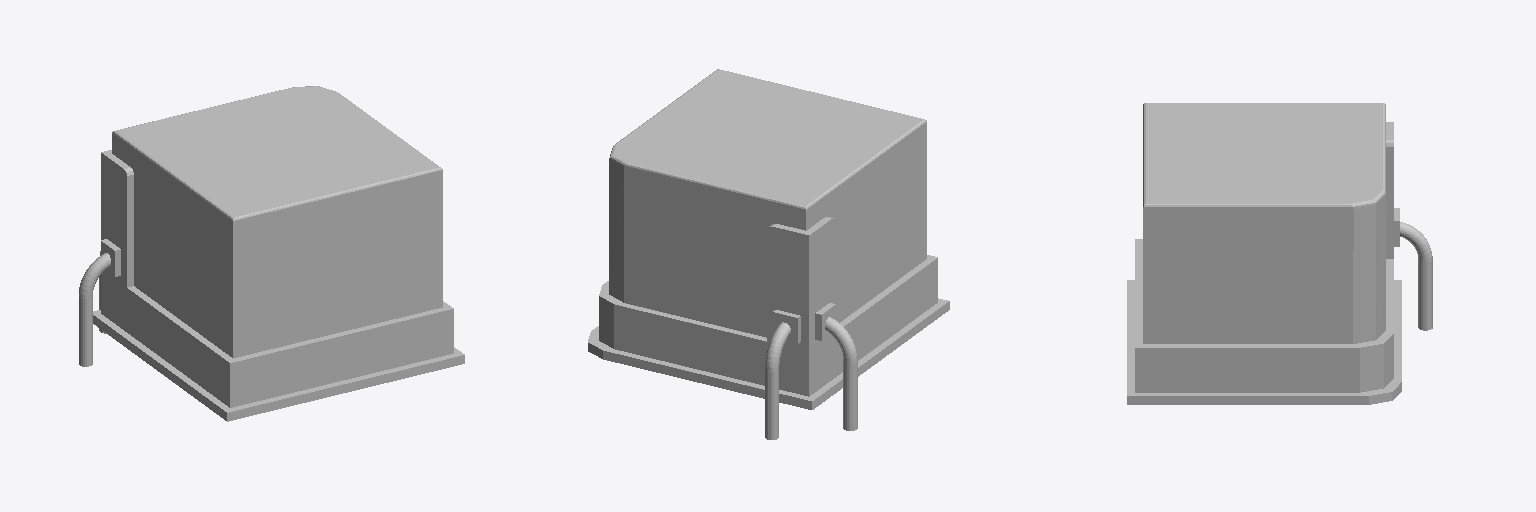
The model's file is TreeFarm.obj.
3 renders of one model, left to right at view 1: azimuth 30°, elevation 25°; view 2: azimuth 150°, elevation 25°; view 3: azimuth 270°, elevation 25°, orthographic.
Parts seen in each view (by area): view 1: Vert.001; view 2: Vert.001; view 3: Vert.001.
Boxes of the visible parts, x1=… form: Vert.001: x1=79, y1=86, x2=464, y2=421; Vert.001: x1=588, y1=69, x2=949, y2=439; Vert.001: x1=1127, y1=103, x2=1432, y2=404.
Size of the model in its own units: 0.7241 by 0.5694 by 0.7223.